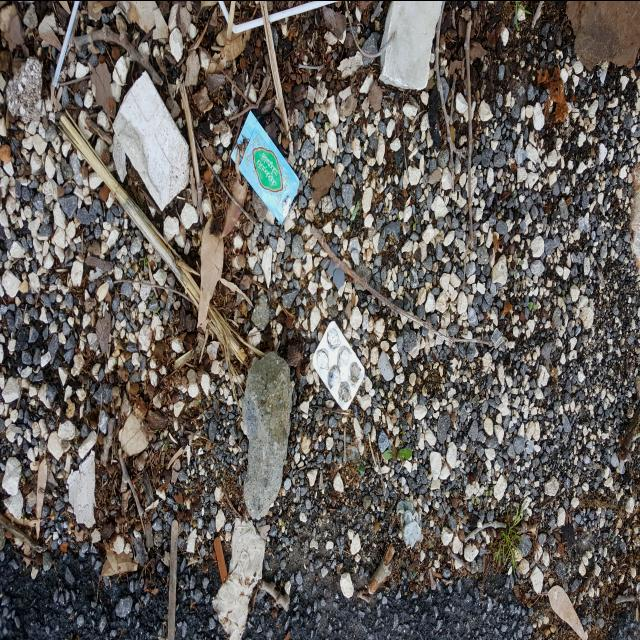Aluminium blister pack: (312, 320, 365, 410)
Other plastic: (230, 110, 300, 224), (283, 195, 290, 216)
Plastic straw: (218, 0, 337, 33), (52, 0, 80, 88)
Tissues: (396, 499, 424, 546)
Unlabeled litter: (211, 516, 266, 640), (491, 327, 504, 347), (578, 216, 590, 231), (472, 394, 479, 406)
